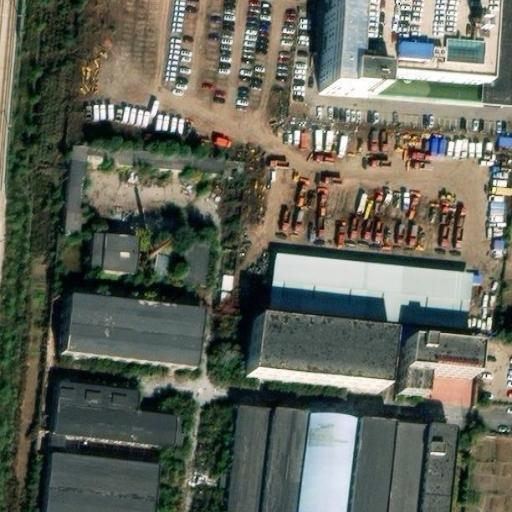building: (223, 414, 456, 512), (315, 0, 477, 92), (272, 262, 467, 330), (244, 326, 390, 393), (59, 312, 194, 384), (53, 397, 175, 458), (40, 464, 157, 512), (87, 141, 226, 172), (59, 141, 89, 234), (403, 345, 471, 385), (149, 248, 203, 293), (81, 240, 132, 287), (492, 136, 512, 149)
